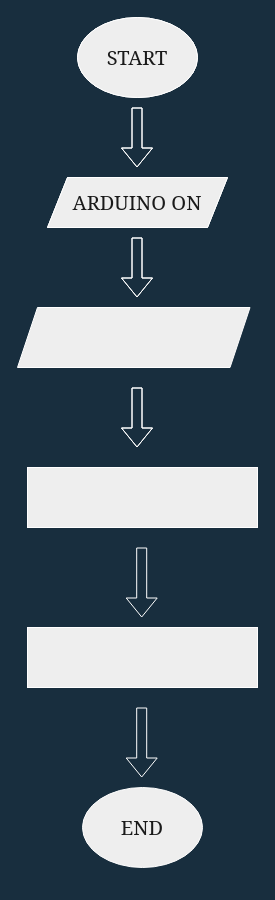
Some shapes in this 275 by 900 pixel diagram are drawn without their labels. Each missing label, with the centre of its shape:
ARMS MOVE LEFT TO RIGHT: the point at 142,657
SERVO MOTOR ON: the point at 133,337
STARTS MOVEMENT OF ARMS: the point at 142,497
